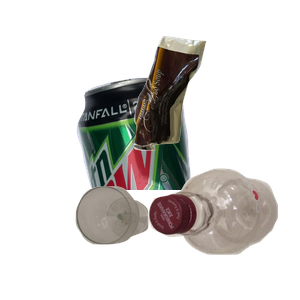glass: (73, 184, 214, 300)
metal: (74, 74, 257, 254)
plastic: (146, 166, 300, 300)
trash: (131, 34, 300, 177)
